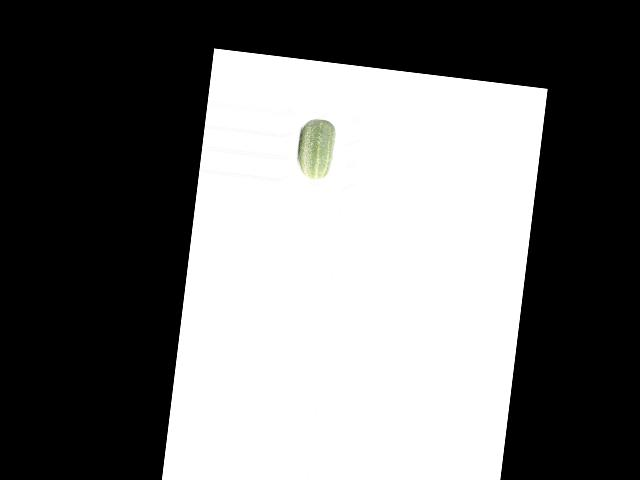cucumber: (295, 116, 336, 180)
